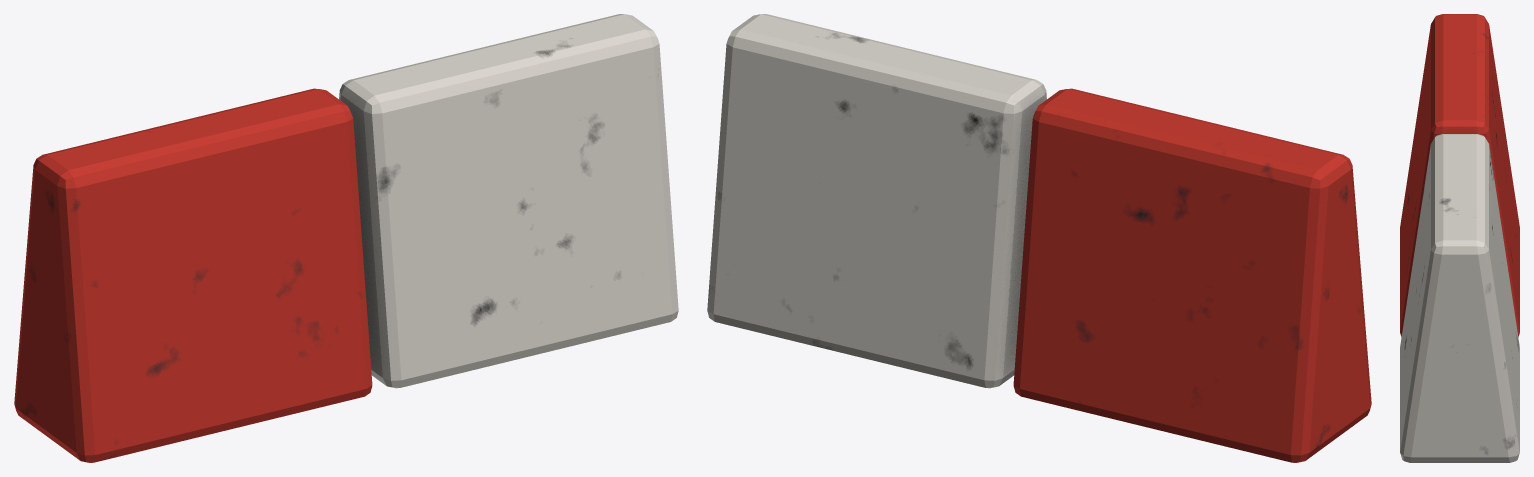
The model's file is city_water_barrier.glb.
3 renders of one model, left to right at view 1: azimuth 30°, elevation 25°; view 2: azimuth 150°, elevation 25°; view 3: azimuth 270°, elevation 25°, orthographic. The views are drawn at different scales.
Visible parts, largest first — view 1: city_water_barrier; view 2: city_water_barrier; view 3: city_water_barrier.
Boxes of the visible parts, x1,y1,x2,y2 form: city_water_barrier: (14, 14, 678, 462); city_water_barrier: (707, 14, 1371, 462); city_water_barrier: (1400, 14, 1519, 462).
Bounding box in the file's own units: 2.04 × 0.9 × 0.4391.
Materials: 2 (2 with a texture image).
